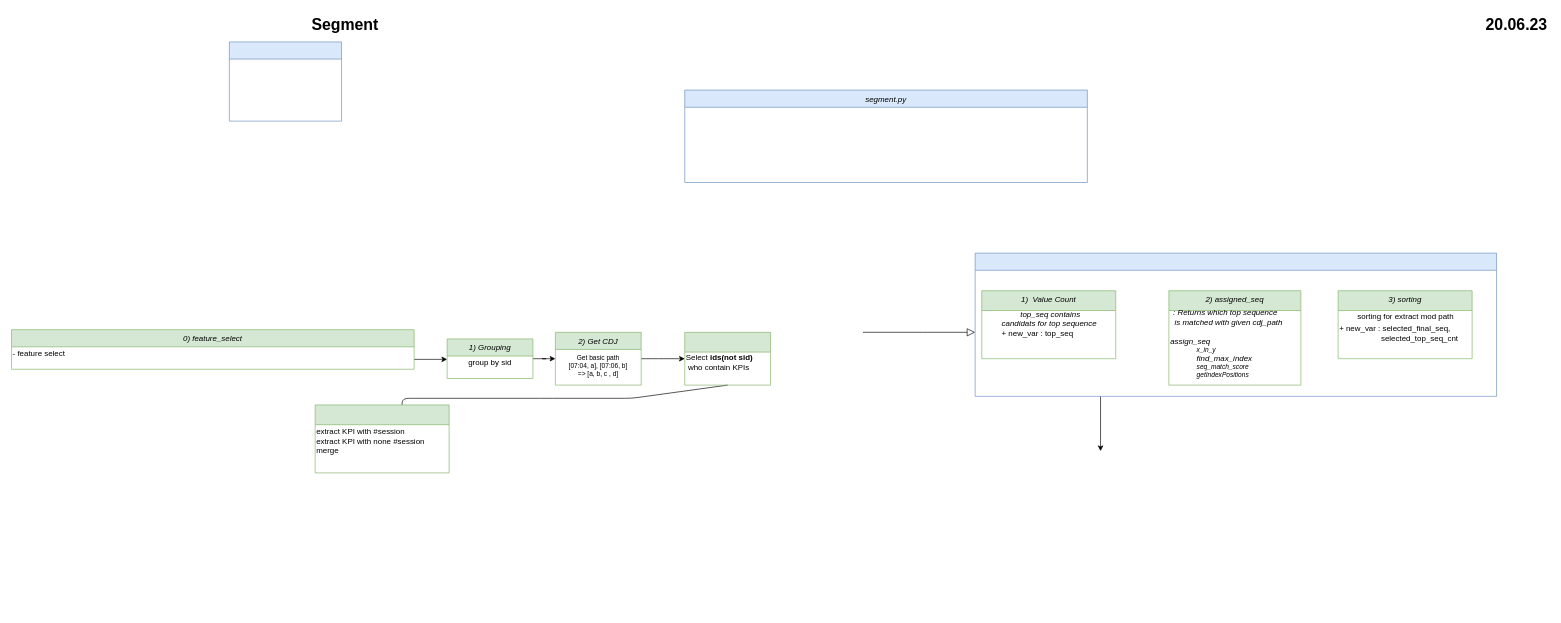
This 1561x623 diagram has some shape labels left out. Here are the shapes that lost their labels. From the top down, the box of each, then its label:
(229, 41, 342, 121): run.py
(974, 252, 1497, 396): 2. return_to_seq.py
(684, 332, 771, 385): 3) Target_ids
(314, 404, 449, 473): 4) Session_to_KPI
